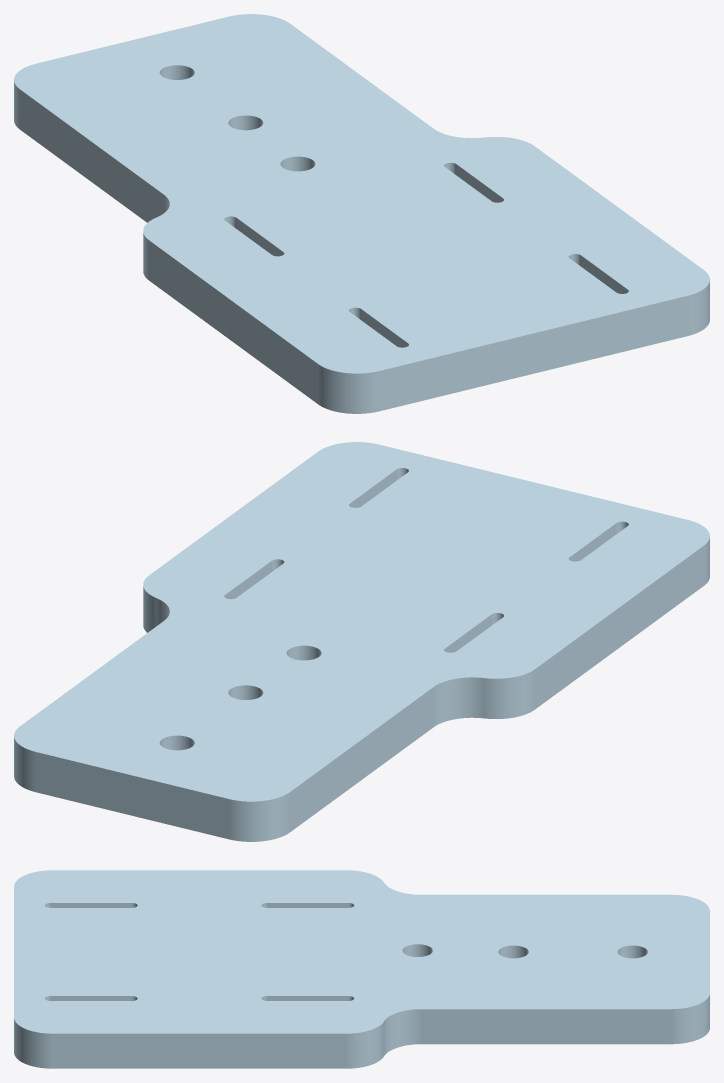
3 views of the same model, one above another, from view 1: azimuth 30°, elevation 25°; view 2: azimuth 150°, elevation 25°; view 3: azimuth 270°, elevation 25° (orthographic). The views are drawn at different scales.
Parts seen in each view (by area): view 1: mesh54592, mesh54593, mesh54594, mesh54595, mesh54612, mesh54610; view 2: mesh54592, mesh54596, mesh54594, mesh54595, mesh54607, mesh54611, mesh54614, mesh54608; view 3: mesh54592, mesh54598, mesh54597, mesh54610, mesh54608, mesh54613, mesh54609, mesh54599, mesh54601, mesh54604, mesh54606, mesh54623 (+1 smaller).
Part boxes in pixels (x1,y1,x2,y2): mesh54592: (14, 14, 709, 373); mesh54593: (379, 296, 687, 411); mesh54594: (149, 240, 318, 403); mesh54595: (20, 89, 163, 222); mesh54612: (318, 364, 379, 413); mesh54610: (687, 281, 709, 335); mesh54592: (14, 442, 709, 801); mesh54596: (36, 752, 228, 839); mesh54594: (534, 546, 703, 709); mesh54595: (290, 687, 433, 831); mesh54607: (229, 792, 289, 841); mesh54611: (484, 669, 534, 718); mesh54614: (434, 677, 484, 726); mesh54608: (14, 737, 36, 792); mesh54592: (14, 870, 709, 1033); mesh54598: (52, 1033, 346, 1068); mesh54597: (421, 1009, 671, 1044); mesh54610: (14, 1019, 52, 1068); mesh54608: (671, 994, 709, 1044); mesh54613: (384, 1009, 421, 1055); mesh54609: (346, 1022, 383, 1068); mesh54599: (267, 903, 348, 907); mesh54601: (50, 903, 131, 907); mesh54604: (50, 996, 131, 1000); mesh54606: (267, 996, 348, 1000); mesh54623: (617, 945, 647, 958).
Size of the model in its own units: 0.0635 by 0.00635 by 0.1143.
